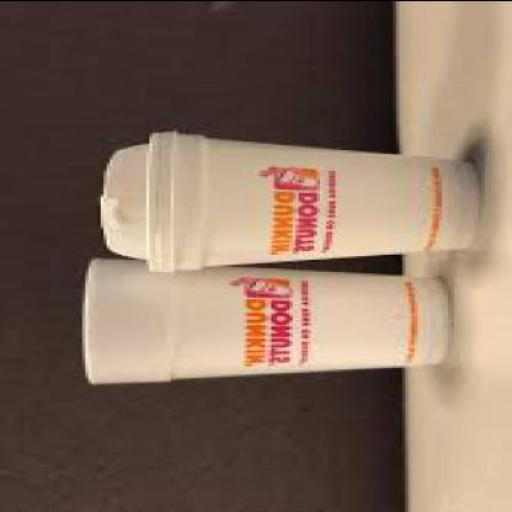paper: (152, 129, 478, 269), (80, 258, 454, 380)
plastic: (97, 129, 171, 269)
